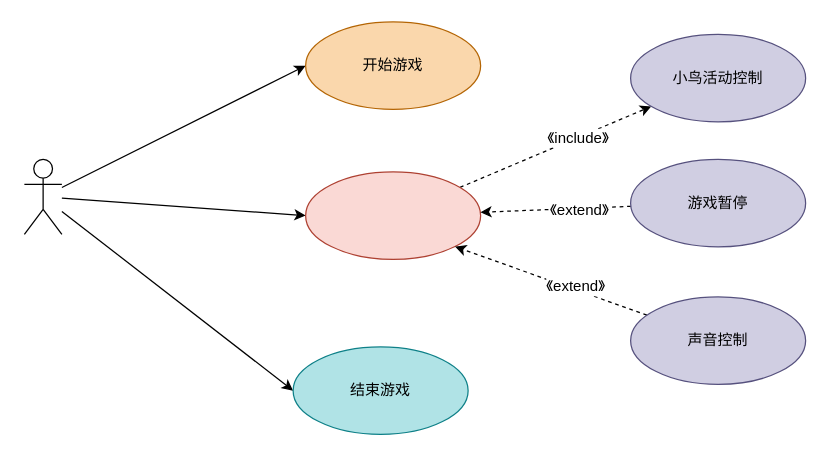
Image size: 828x456. Some labels were removed from this diagram. Each missing label, with the centre of its shape:
Player: pixel 42 196
基本游戏控制: pixel 392 215
